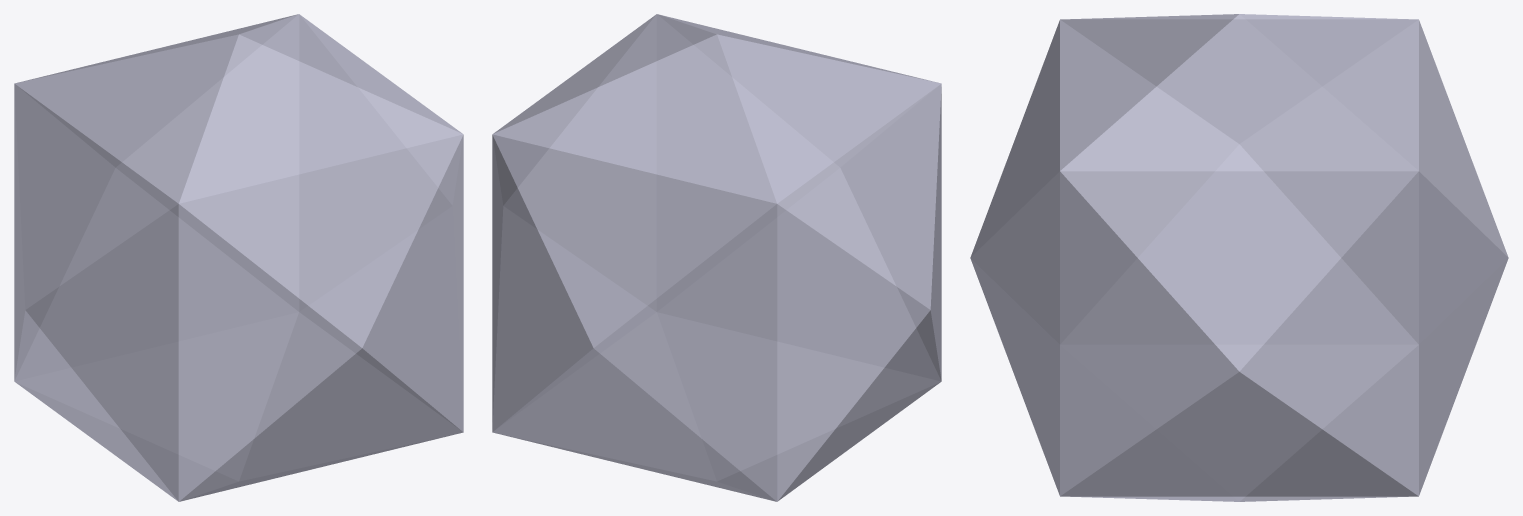
Rendered from TetrakisHexahedron.obj.
3 views of the same model, side by side, from view 1: azimuth 30°, elevation 25°; view 2: azimuth 150°, elevation 25°; view 3: azimuth 270°, elevation 25° (orthographic). The views are drawn at different scales.
Size of the model in its own units: 3.18 by 3.18 by 3.18.
